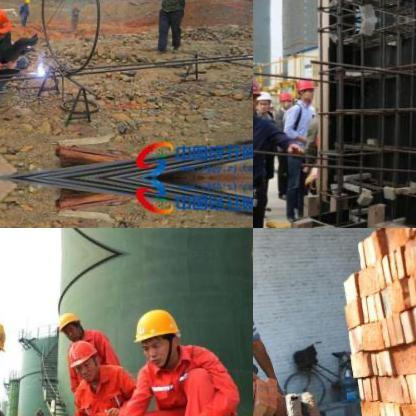Helmet: (130, 306, 180, 364), (64, 338, 102, 384), (52, 306, 86, 344), (292, 77, 314, 103), (256, 88, 272, 112), (278, 87, 292, 111), (0, 4, 9, 37)
